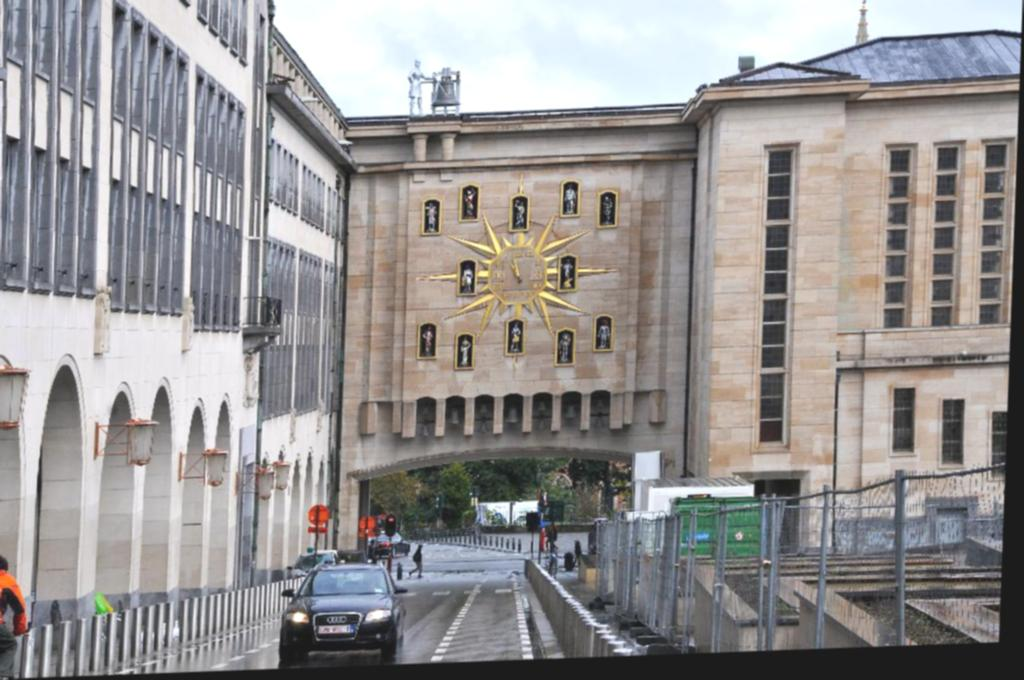License_Plate: (319, 621, 355, 635)
